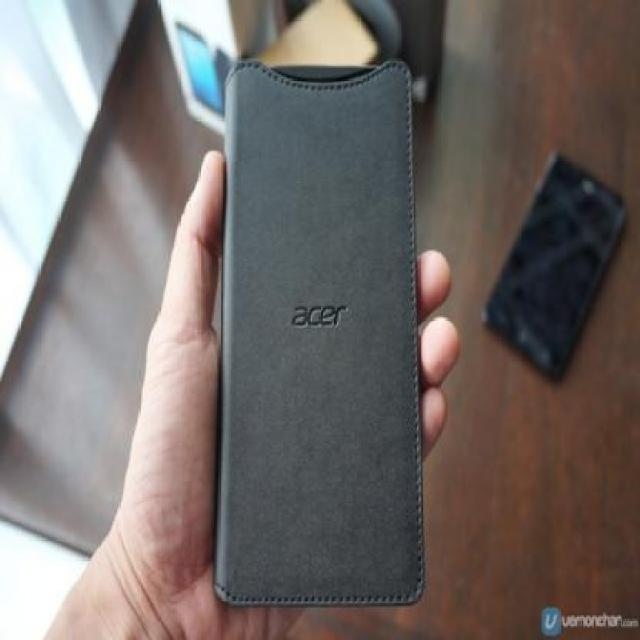phone: (208, 55, 428, 607), (479, 148, 627, 379)
